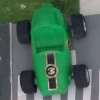carro: (18, 4, 88, 93)
